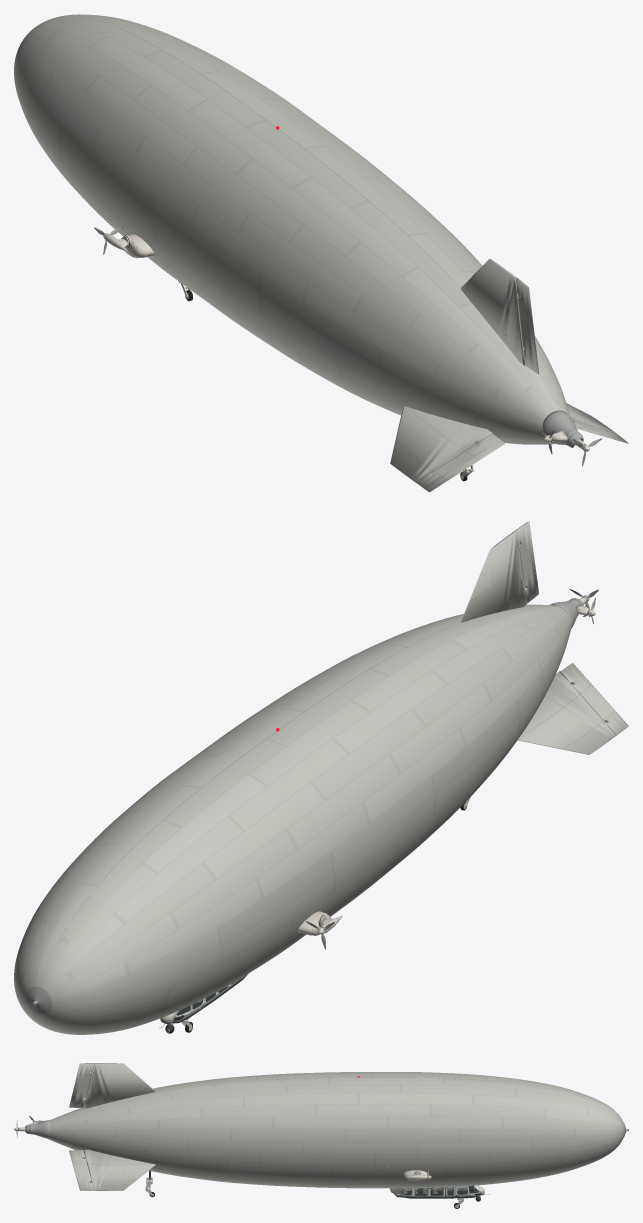
Rendered from historico.glb.
3 views of the same model, one above another, from view 1: azimuth 30°, elevation 25°; view 2: azimuth 150°, elevation 25°; view 3: azimuth 270°, elevation 25° (orthographic). The views are drawn at different scales.
Parts seen in each view (by area): view 1: airship_mesh, fin_port_hinge_mesh, rudder_dorsal_hinge_mesh; view 2: airship_mesh, fin_port_hinge_mesh, rudder_dorsal_hinge_mesh; view 3: airship_mesh, rudder_dorsal_hinge_mesh, fin_starboard_hinge_mesh.
Boxes of the visible parts, x1,y1,x2,y2 form: airship_mesh: [14, 14, 615, 483]; fin_port_hinge_mesh: [416, 433, 505, 492]; rudder_dorsal_hinge_mesh: [515, 277, 538, 374]; airship_mesh: [14, 530, 615, 1034]; fin_port_hinge_mesh: [560, 663, 628, 735]; rudder_dorsal_hinge_mesh: [515, 521, 538, 602]; airship_mesh: [25, 1063, 628, 1208]; rudder_dorsal_hinge_mesh: [69, 1063, 94, 1107]; fin_starboard_hinge_mesh: [69, 1150, 94, 1190].
Size of the model in its own units: 1.31 by 1.35 by 5.17.
Materials: 23 (9 with a texture image).
